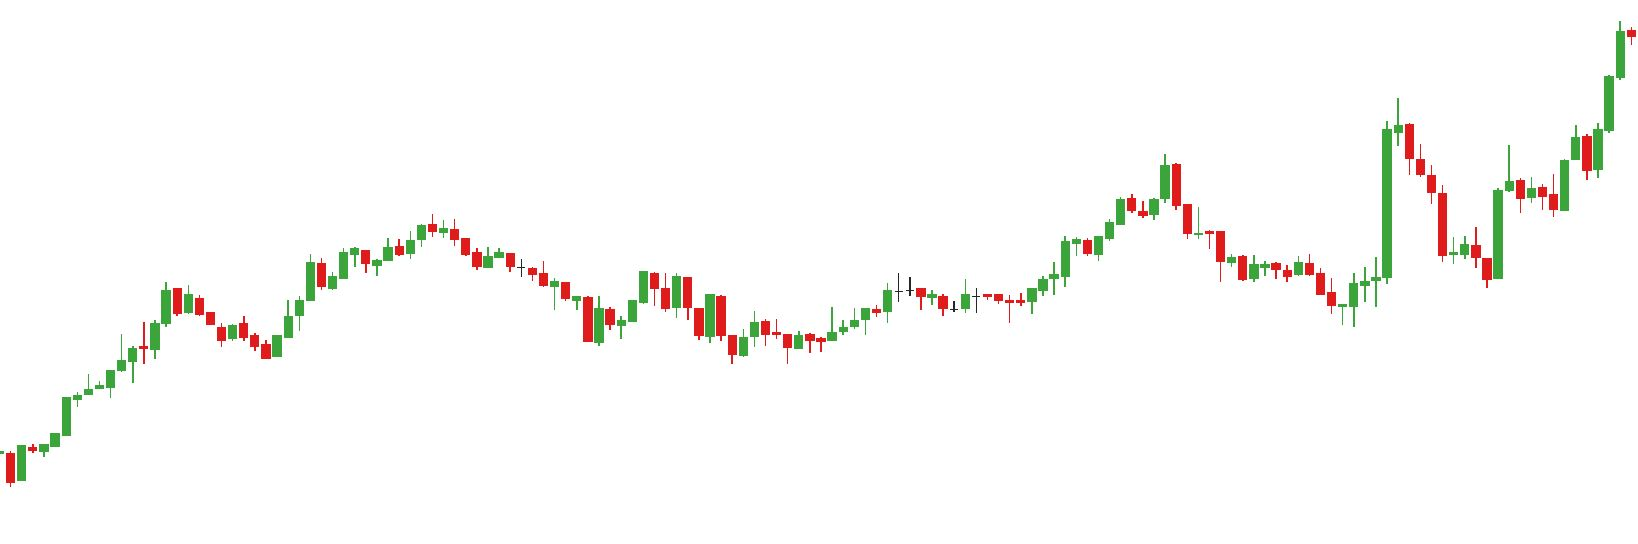sell: (1157, 93, 1417, 240)
